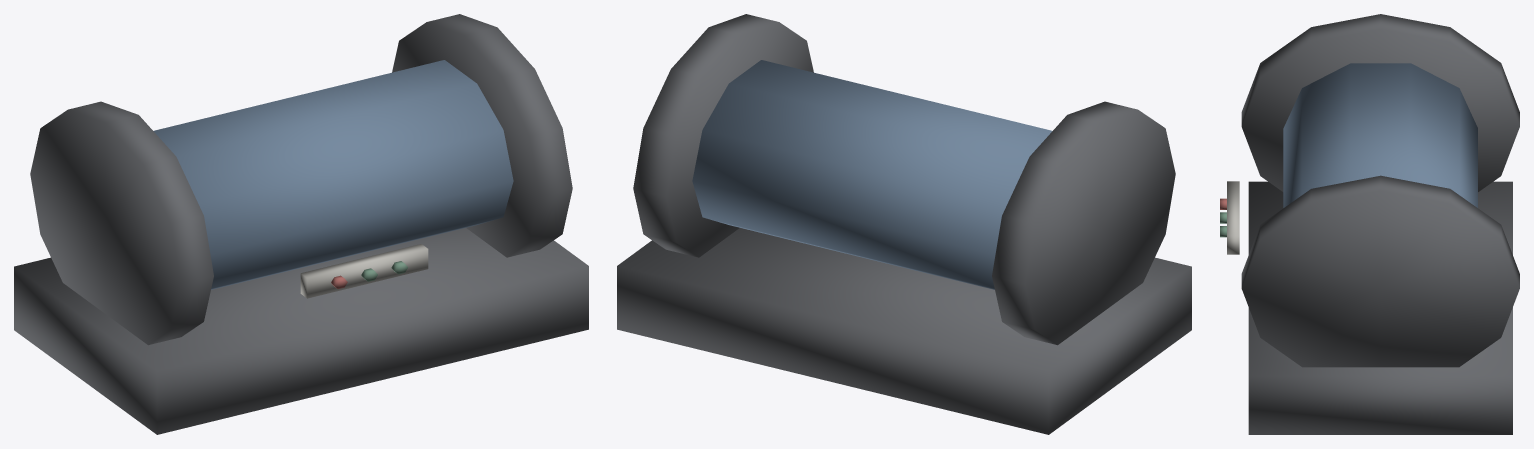
Rendered from bench_grinder__squat.glb.
3 views of the same model, side by side, from view 1: azimuth 30°, elevation 25°; view 2: azimuth 150°, elevation 25°; view 3: azimuth 270°, elevation 25° (orthographic). The views are drawn at different scales.
Parts seen in each view (by area): view 1: world; view 2: world; view 3: world.
Part boxes in pixels (x1,y1,x2,y2): world: [14, 14, 588, 434]; world: [617, 14, 1191, 434]; world: [1220, 14, 1519, 434].
Bounding box in the file's own units: 0.715 × 0.4032 × 0.4655.
